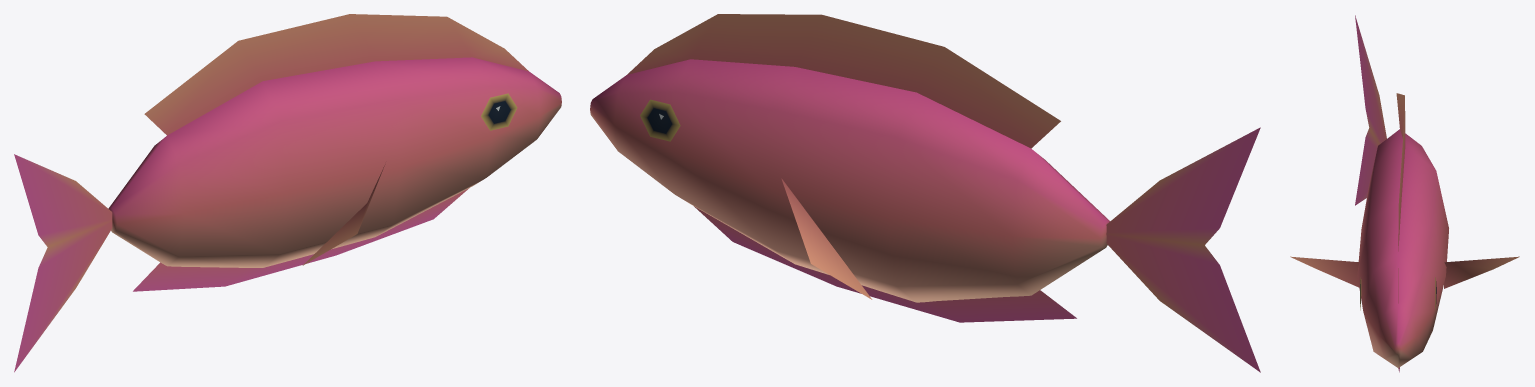
The model's file is fish-ember-anthias.glb.
3 renders of one model, left to right at view 1: azimuth 30°, elevation 25°; view 2: azimuth 150°, elevation 25°; view 3: azimuth 270°, elevation 25°, orthographic. The views are drawn at different scales.
Visible parts, largest first — view 1: fish-ember-anthias.002; view 2: fish-ember-anthias.002; view 3: fish-ember-anthias.002.
Boxes of the visible parts, x1,y1,x2,y2 form: fish-ember-anthias.002: (14, 14, 561, 372); fish-ember-anthias.002: (590, 14, 1260, 372); fish-ember-anthias.002: (1290, 15, 1519, 372).
Bounding box in the file's own units: 1.5 × 0.6289 × 0.6.
